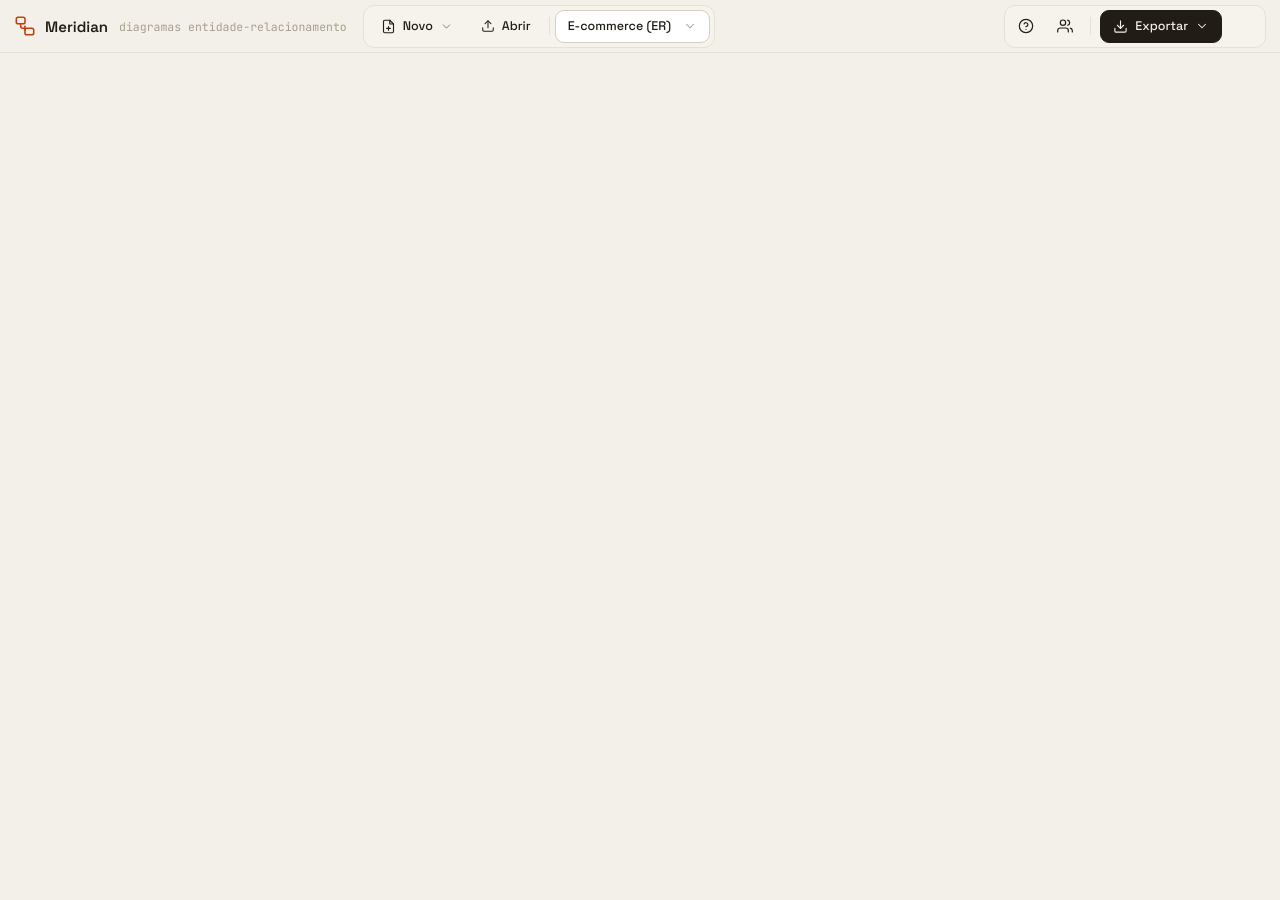
Test: TopBar — menu de export › menu fechado por padrão; clique abre com #exportMenu.visível
Click the button with id "btnExport" at [1161, 26], box [1100,10,1222,42]
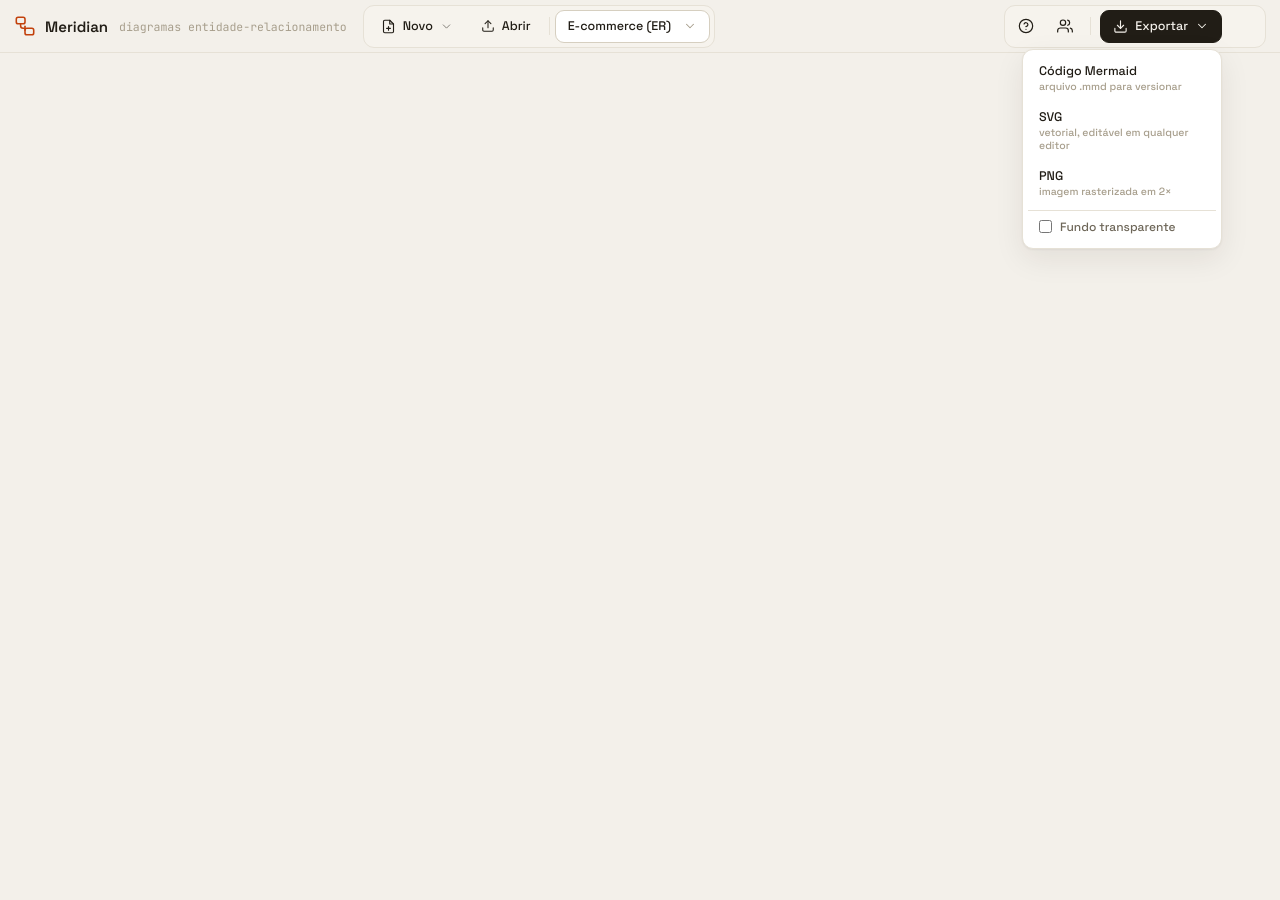
Check: the element with id "exportMenu" is shown, box [1022,48,1222,248]
Click the button with id "btnExport" at [1161, 26], box [1100,10,1222,42]
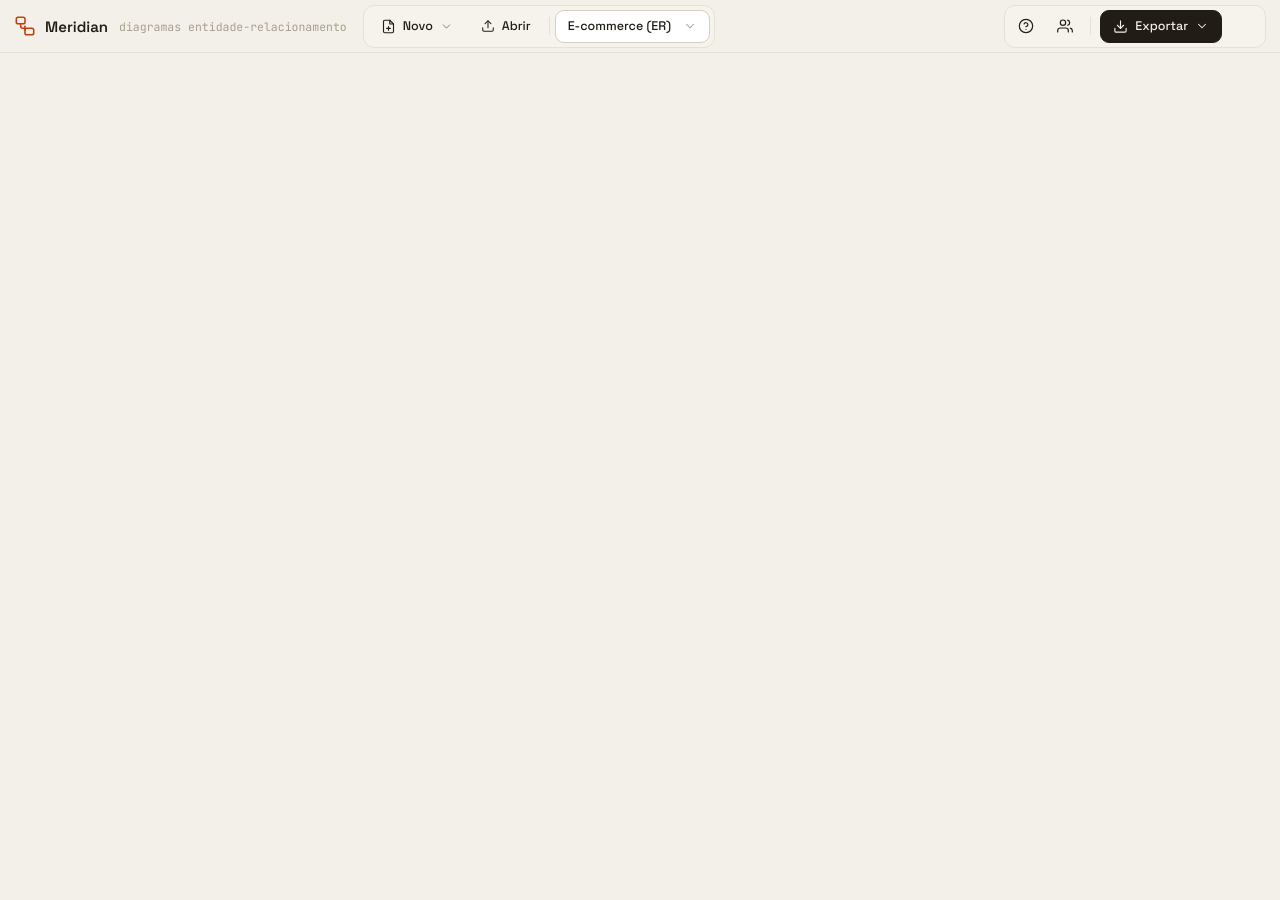
Check: the element with id "exportMenu" is gone
Click the button with id "btnExport" at [1161, 26], box [1100,10,1222,42]
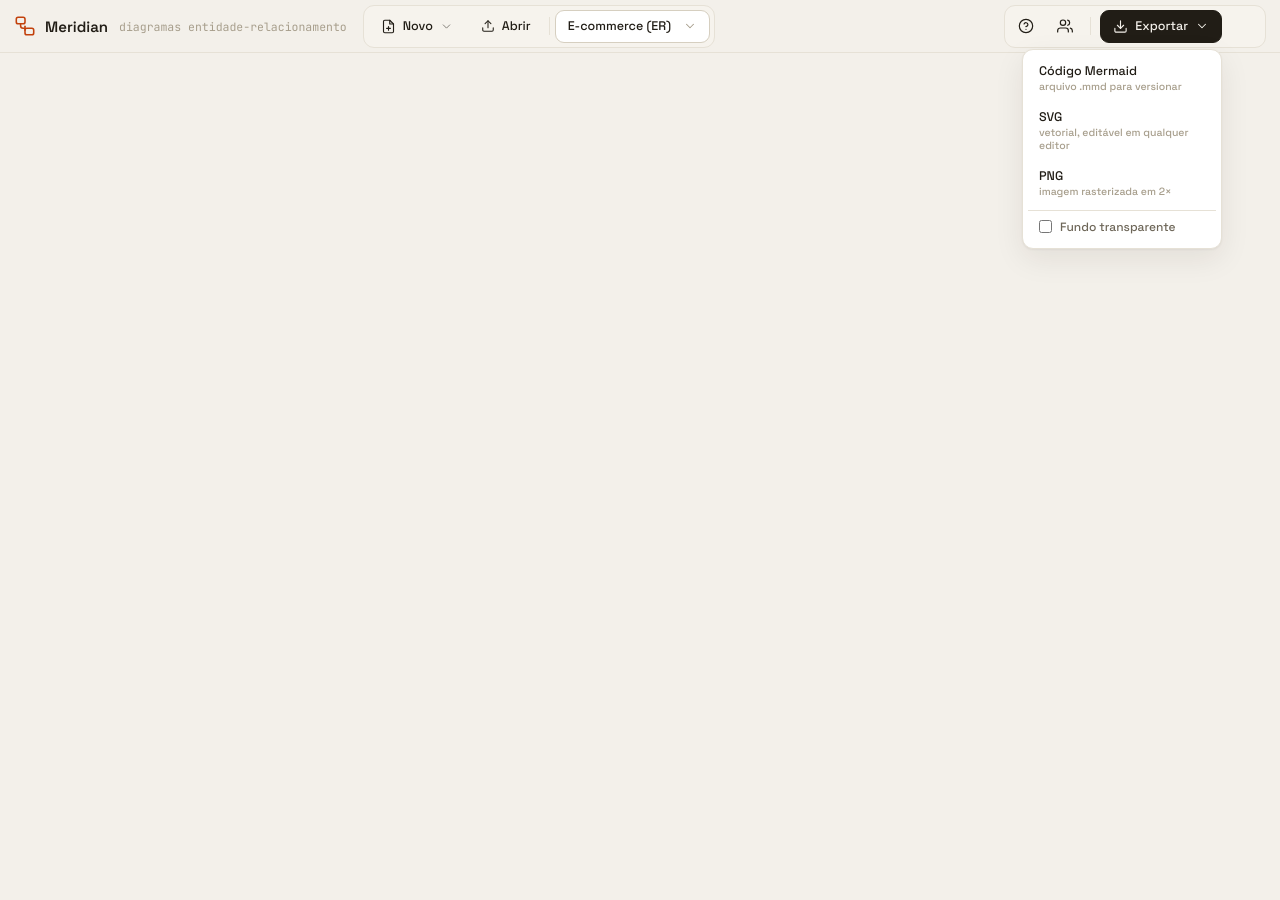
Click the element that starts with "Meridian" at [640, 450], box [0,0,1279,899]
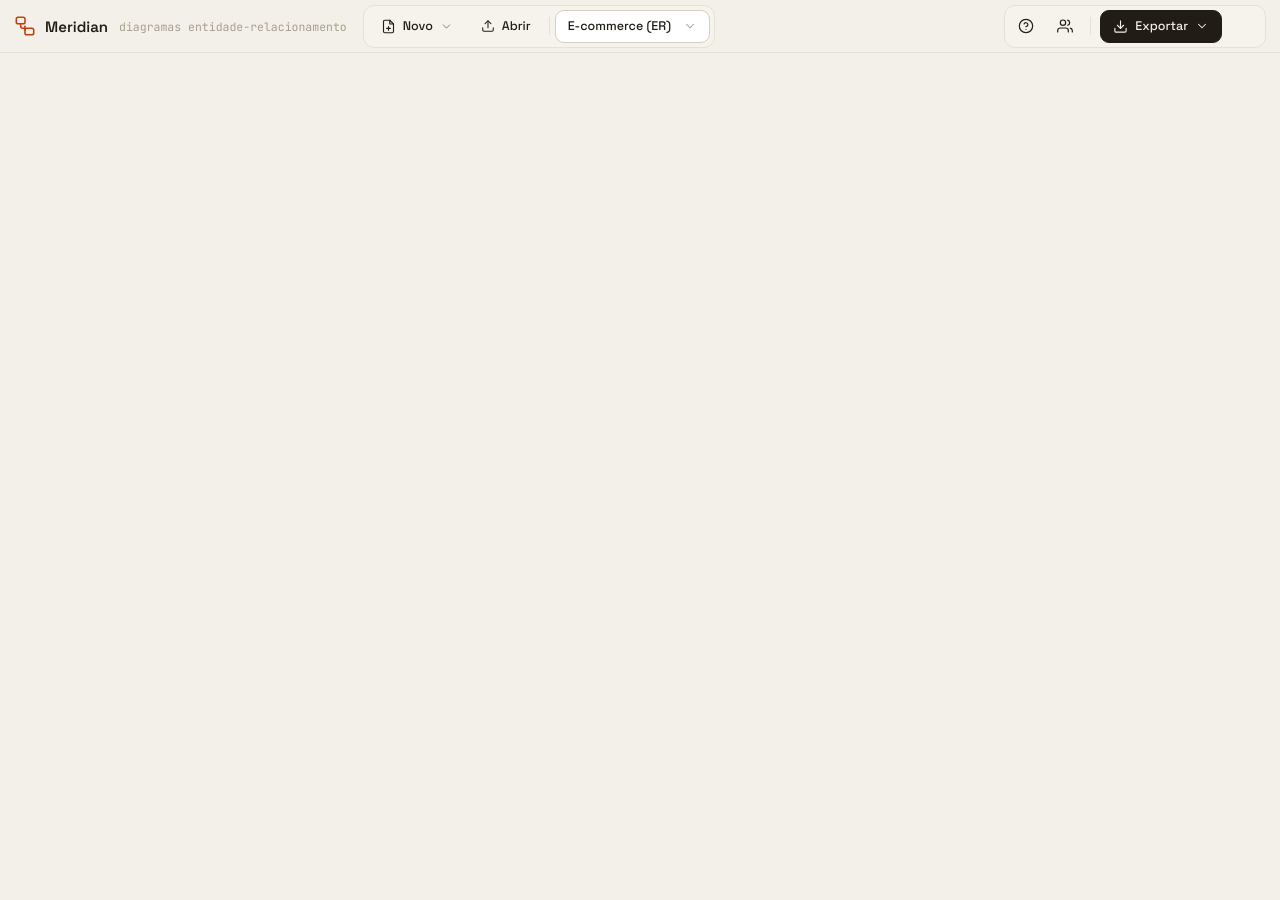
Check: the element with id "exportMenu" is gone
